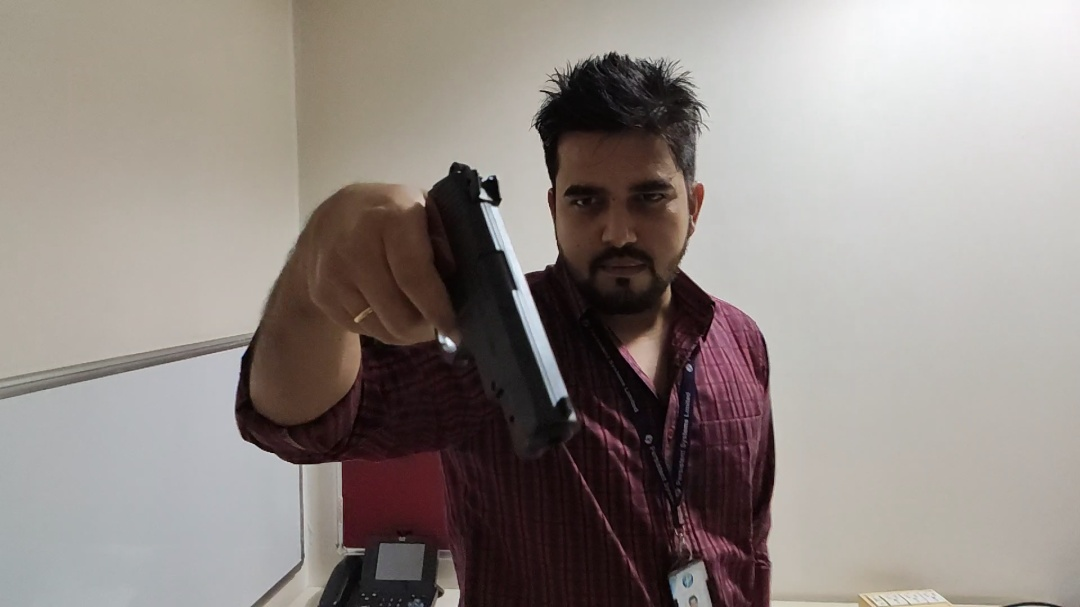gun: (378, 152, 582, 475)
